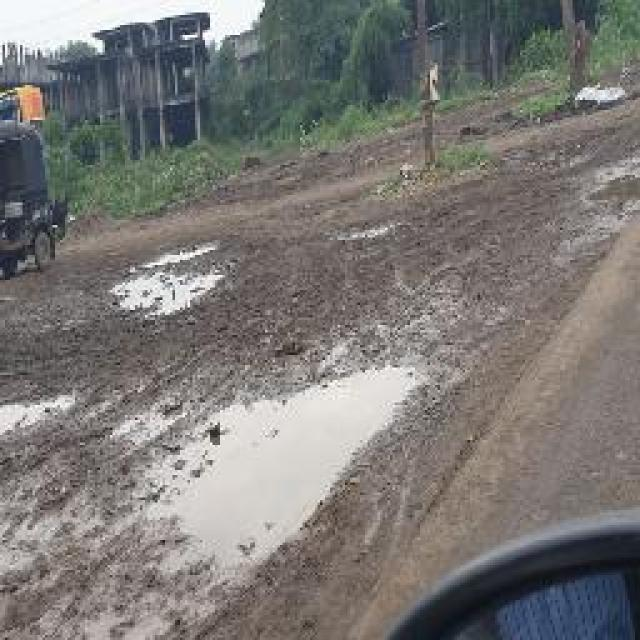waterlogging: (129, 392, 435, 595)
